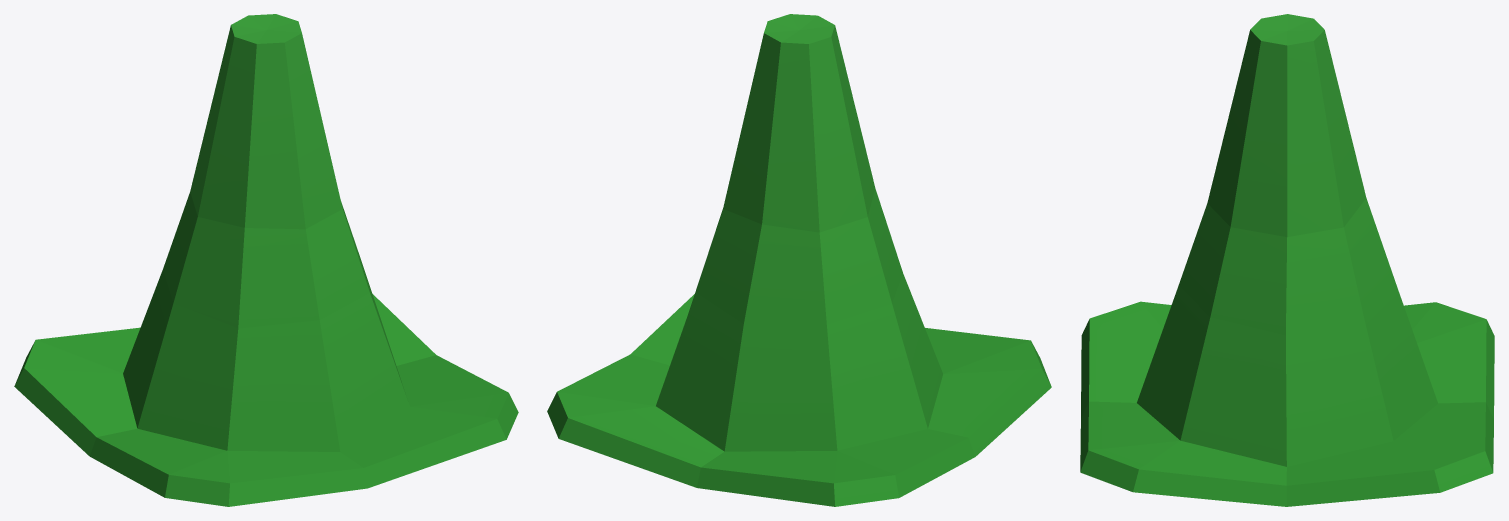
File: Traffic_Cone_Green.glb
The picture shows the model from 3 angles, left to right: view 1: azimuth 30°, elevation 25°; view 2: azimuth 150°, elevation 25°; view 3: azimuth 270°, elevation 25°; orthographic projection.
Visible parts, largest first — view 1: Traffic_Cone_Green; view 2: Traffic_Cone_Green; view 3: Traffic_Cone_Green.
Part boxes in pixels (x1,y1,x2,y2): Traffic_Cone_Green: (14,14,518,506); Traffic_Cone_Green: (547,14,1051,506); Traffic_Cone_Green: (1080,14,1494,506).
Size of what is drawn, in the model's own units: 0.5267 by 0.5469 by 0.5268.
1 material, 1 textured.
